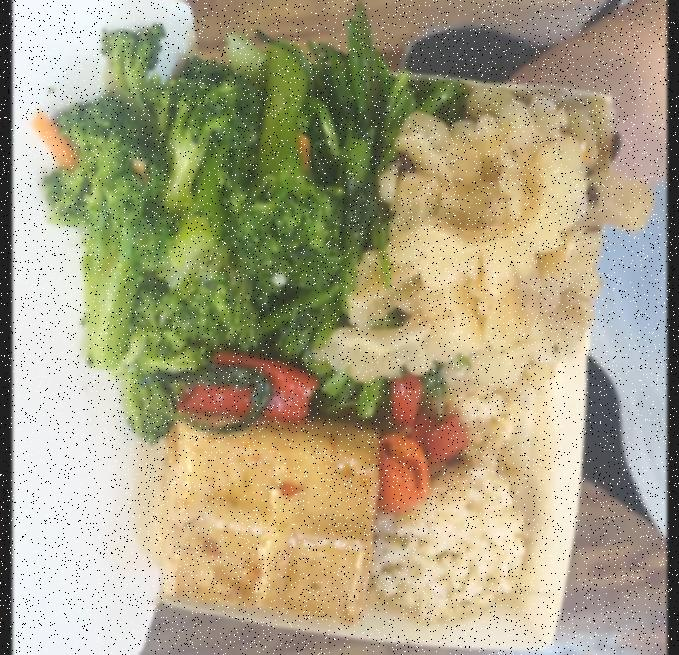box: (143, 48, 620, 655)
side dish: (41, 57, 325, 382), (331, 73, 611, 377), (152, 408, 386, 627), (308, 58, 421, 406)
white rice: (383, 386, 527, 628)
